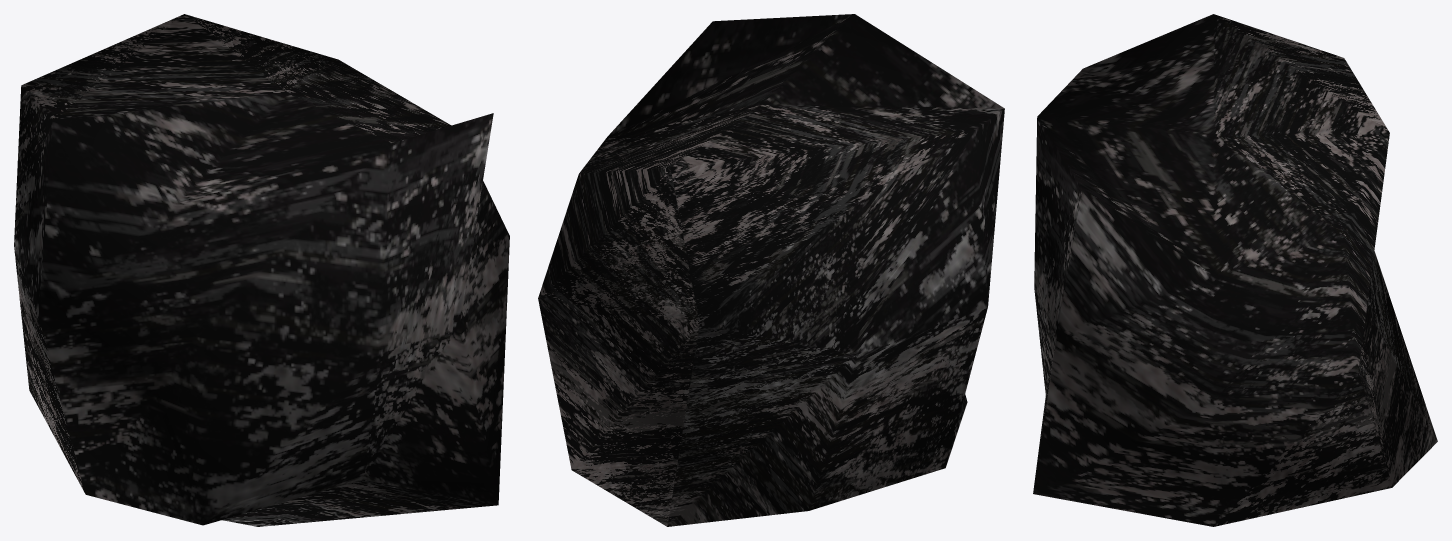
File: rockLarge.fbx
3 views of the same model, side by side, from view 1: azimuth 30°, elevation 25°; view 2: azimuth 150°, elevation 25°; view 3: azimuth 270°, elevation 25° (orthographic). The views are drawn at different scales.
Visible parts, largest first — view 1: boulder; view 2: boulder; view 3: boulder.
Boxes of the visible parts, x1,y1,x2,y2 form: boulder: (14, 14, 509, 526); boulder: (538, 14, 1004, 526); boulder: (1033, 14, 1437, 526).
Size of the model in its own units: 4.99 by 4.61 by 4.3.
